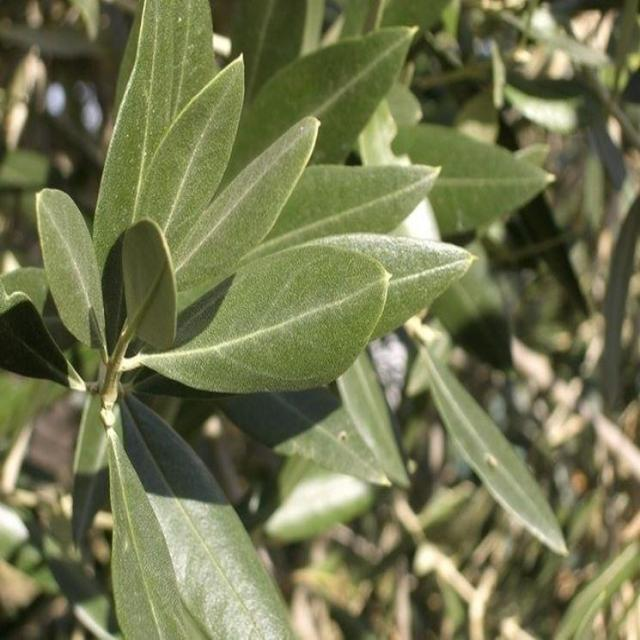Healthy: (121, 396, 293, 639), (146, 253, 389, 393), (173, 117, 320, 291), (132, 55, 243, 250), (108, 447, 204, 639), (36, 188, 106, 361)
